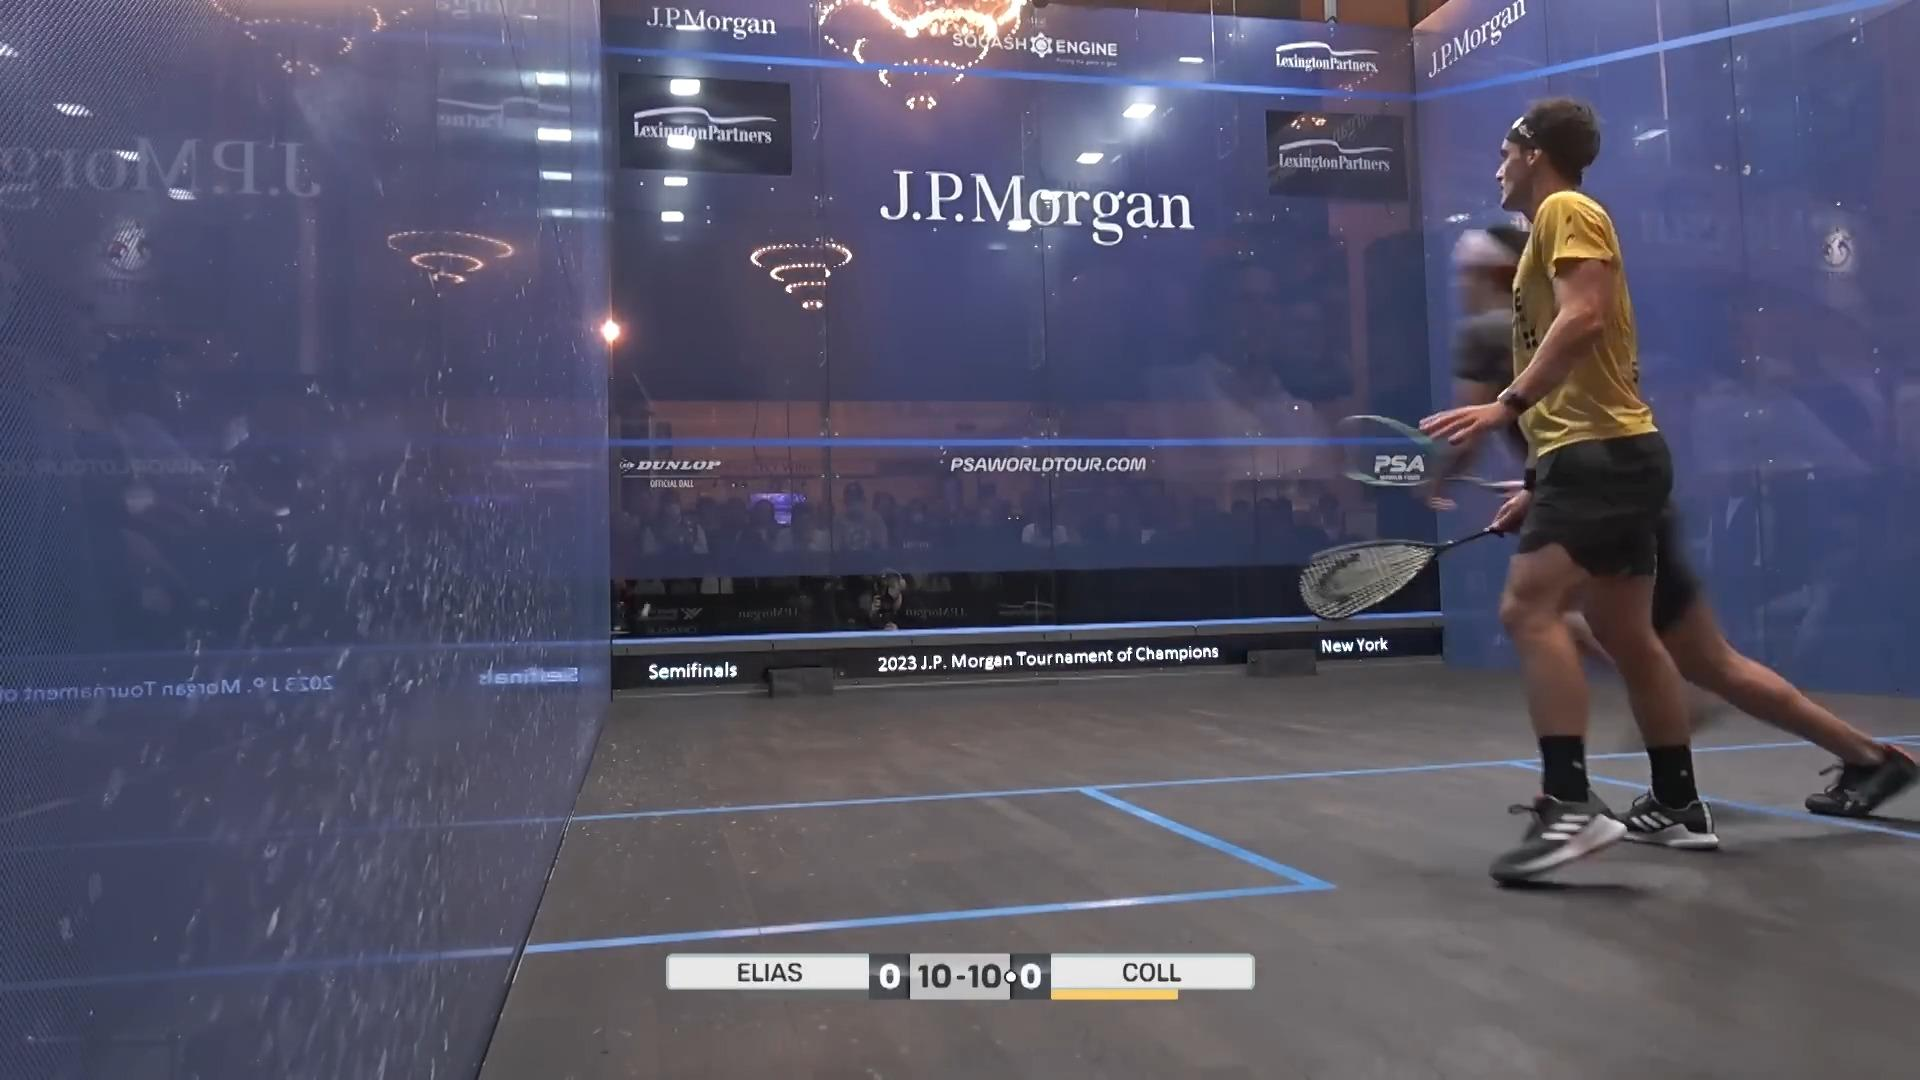Racket: (1299, 518, 1499, 632), (1354, 405, 1498, 489)
